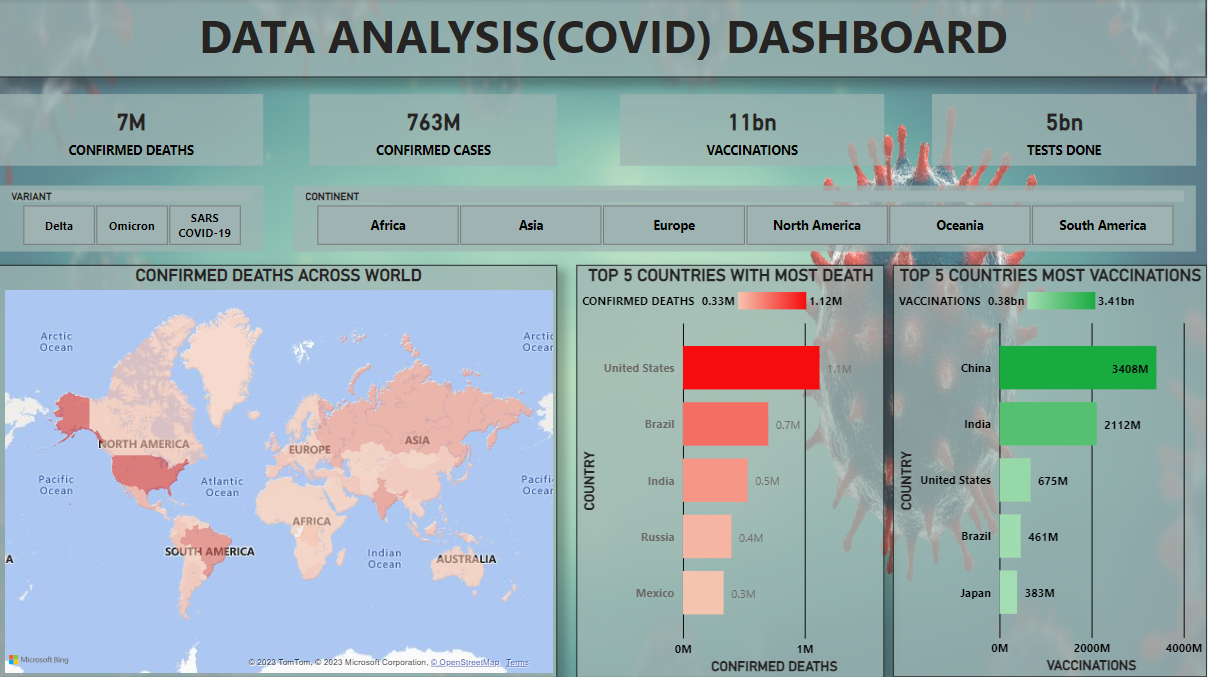

The dashboard page shown, as its layout file describes it:
{"tool":"powerbi","page":{"name":"Page 1","canvas":[1280,720],"ordinal":0},"visuals":[{"type":"card","fields":{"Values":["Cases and Deaths.CONFIRMED CASES"]},"box":[330.7,102,260.8,75.6],"z":0},{"type":"card","fields":{"Values":["Cases and Deaths.CONFIRMED DEATHS"]},"box":[0,101.7,279.7,76.3],"z":1000},{"type":"card","fields":{"Values":["Tests and vaccinations.VACCINATIONS"]},"box":[667.1,102,279.7,75.6],"z":2000},{"type":"textbox","box":[0,0,1279.5,84.2],"z":3000},{"type":"card","fields":{"Values":["Tests and vaccinations.TESTS"]},"box":[988.4,102,279.7,75.6],"z":4000},{"type":"slicer","fields":{"Values":["Cases and Deaths.Variant"]},"box":[0,198.7,279.7,69.9],"z":5000},{"type":"slicer","fields":{"Values":["Cases and Deaths.continent"]},"box":[311.5,198.7,956.8,69.9],"z":6000},{"type":"filledMap","title":"CONFIRMED DEATHS ACROSS WORLD","fields":{"Category":["Cases and Deaths.location"]},"box":[0,282.9,591.3,437.1],"z":7000},{"type":"barChart","title":"TOP 5 COUNTRIES WITH MOST DEATH","fields":{"Category":["Cases and Deaths.location"],"Y":["Cases and Deaths.CONFIRMED DEATHS"]},"box":[611.9,282.9,325.8,437.1],"z":8000},{"type":"barChart","title":"TOP 5 COUNTRIES MOST VACCINATIONS","fields":{"Category":["Tests and vaccinations.location"],"Y":["Tests and vaccinations.VACCINATIONS"]},"box":[946.8,283.5,332.6,436.5],"z":9000}]}

Visuals, with their boxes in screenshot pixels (x1, y1, x2, y2), scaled from the page's 1280x720 canvas onto the 1208x677 screenshot:
card - Cases and Deaths.CONFIRMED CASES: (312,96,558,167)
card - Cases and Deaths.CONFIRMED DEATHS: (0,96,264,167)
card - Tests and vaccinations.VACCINATIONS: (630,96,894,167)
textbox: (0,0,1207,79)
card - Tests and vaccinations.TESTS: (933,96,1197,167)
slicer - Cases and Deaths.Variant: (0,187,264,253)
slicer - Cases and Deaths.continent: (294,187,1197,253)
"CONFIRMED DEATHS ACROSS WORLD" filledMap: (0,266,558,676)
"TOP 5 COUNTRIES WITH MOST DEATH" barChart: (577,266,885,676)
"TOP 5 COUNTRIES MOST VACCINATIONS" barChart: (894,267,1207,676)
